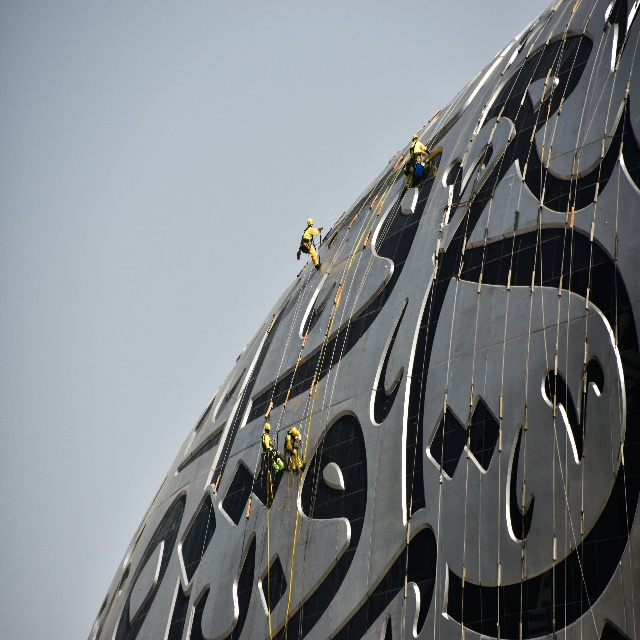Sin_guantes: (295, 442, 299, 449)
